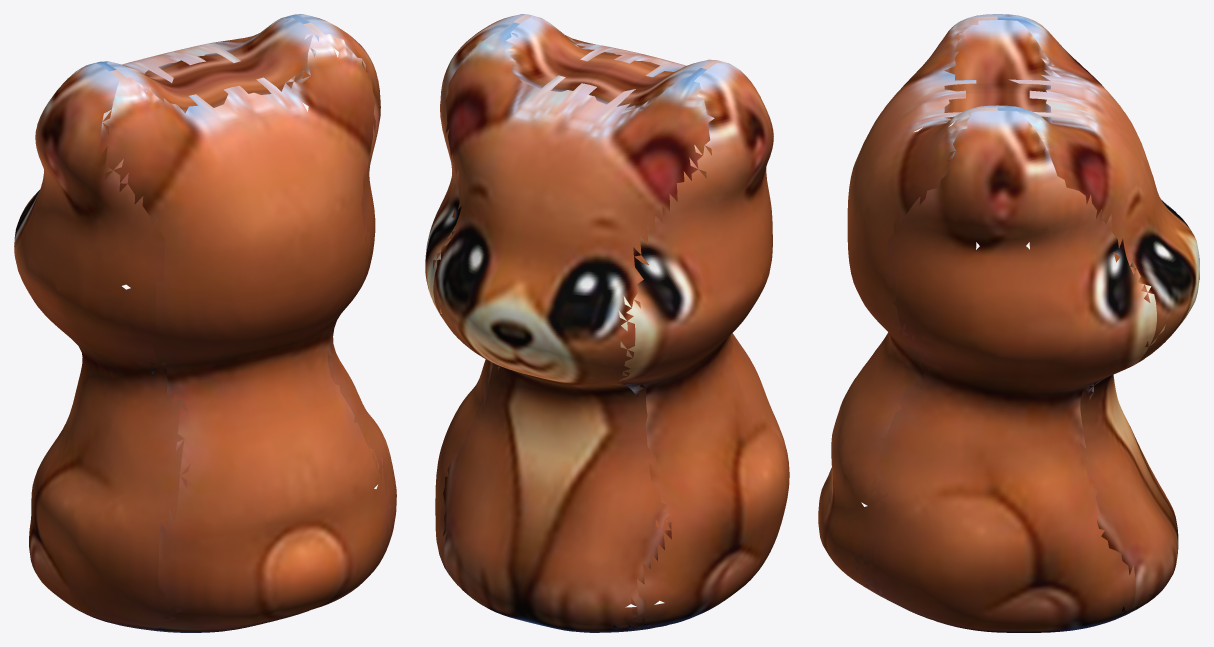
File: Ours.glb
3 renders of one model, left to right at view 1: azimuth 30°, elevation 25°; view 2: azimuth 150°, elevation 25°; view 3: azimuth 270°, elevation 25°, orthographic. The views are drawn at different scales.
Parts seen in each view (by area): view 1: Ours; view 2: Ours; view 3: Ours.
Boxes of the visible parts, left/top/right/bottom form: Ours: left=14, top=14, right=396, bottom=632; Ours: left=425, top=14, right=789, bottom=632; Ours: left=818, top=14, right=1199, bottom=632.
Size of the model in its own units: 2.54 by 4.17 by 2.76.
1 material, 1 textured.
